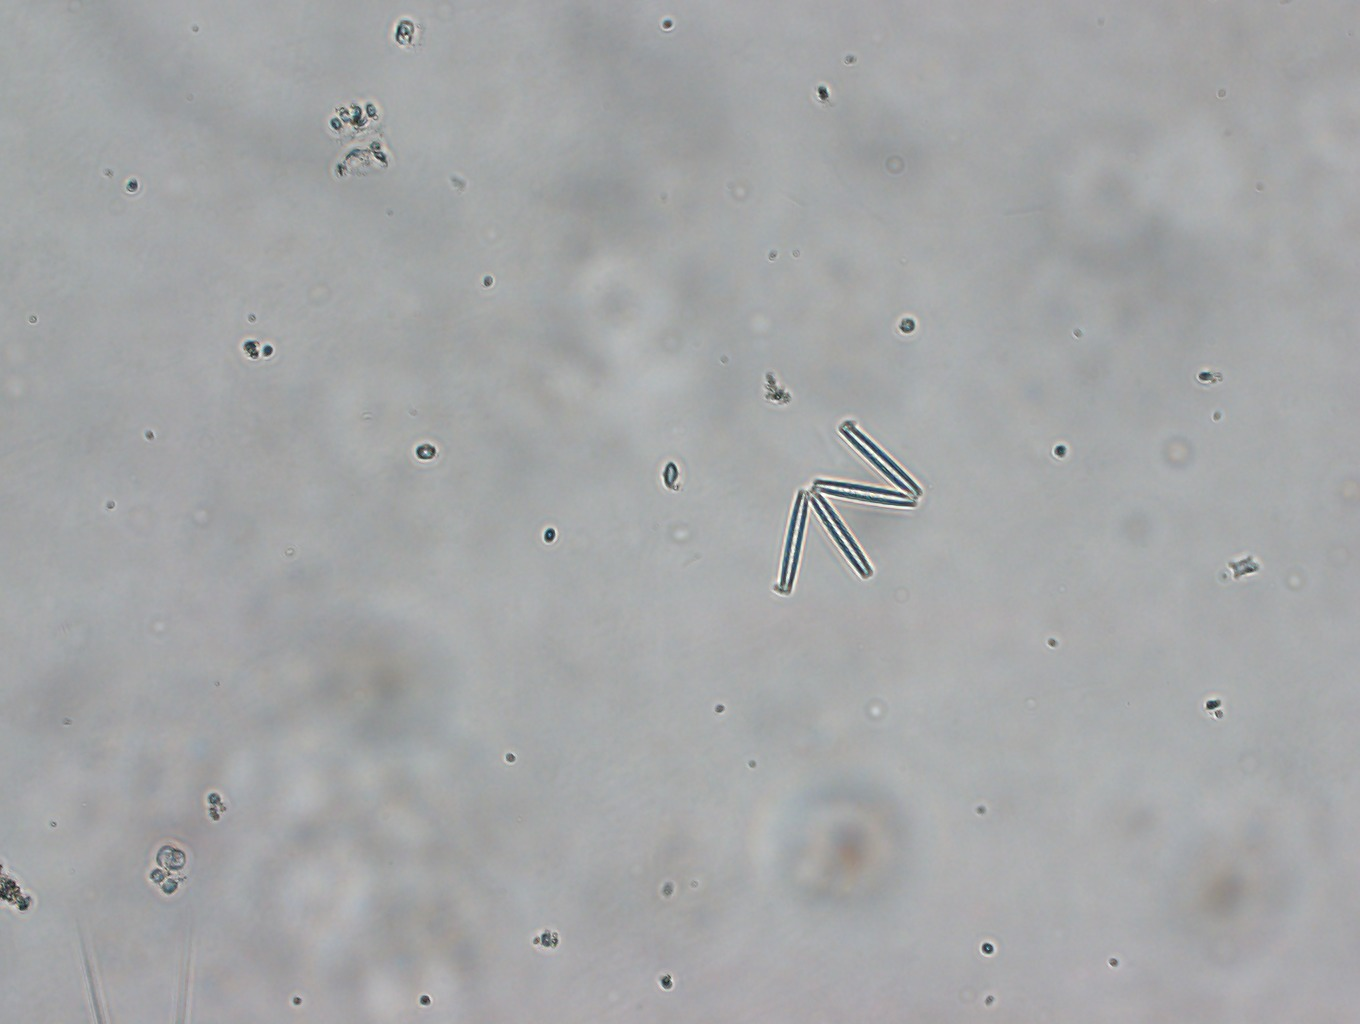thalassionema nitzschioides: (767, 412, 925, 601)
